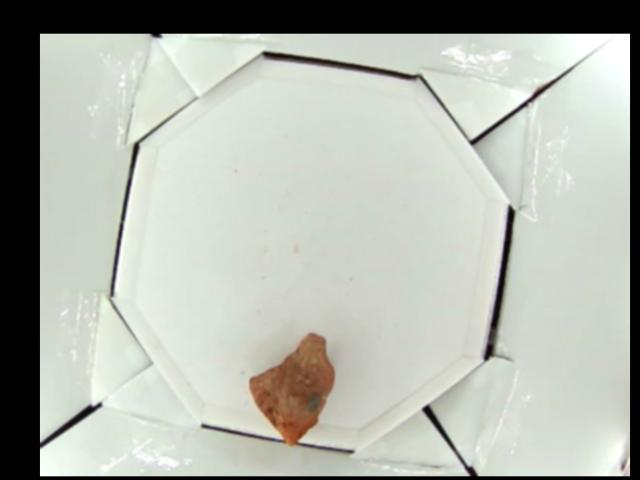Brisk: (247, 335, 335, 444)
